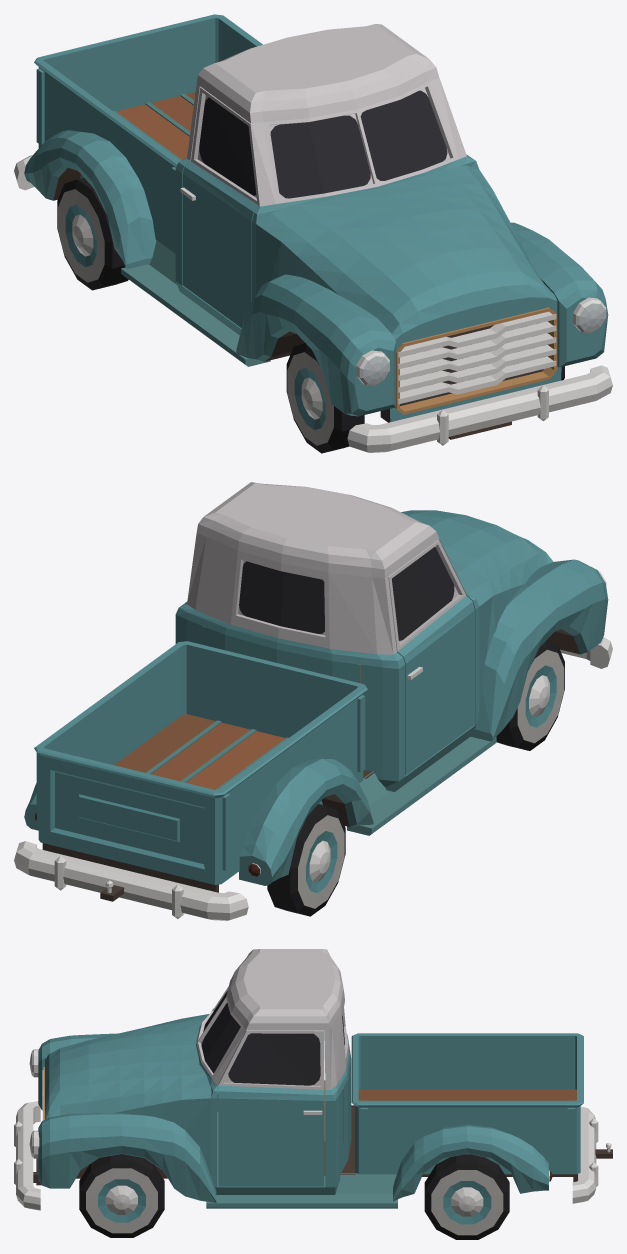
File: pickup-truck-a34bf2.glb
3 views of the same model, one above another, from view 1: azimuth 30°, elevation 25°; view 2: azimuth 150°, elevation 25°; view 3: azimuth 270°, elevation 25° (orthographic). The views are drawn at different scales.
Visible parts, largest first — view 1: pickup-truck-body, door-r-mesh, wheel-rr-mesh, wheel-fr-mesh; view 2: pickup-truck-body, door-r-mesh, wheel-rr-mesh, wheel-fr-mesh; view 3: pickup-truck-body, door-l-mesh, wheel-rl-mesh, wheel-fl-mesh.
Boxes of the visible parts, x1,y1,x2,y2 form: pickup-truck-body: (14,14,612,452); door-r-mesh: (180,87,260,327); wheel-rr-mesh: (57,178,128,290); wheel-fr-mesh: (286,343,364,453); pickup-truck-body: (14,482,612,920); door-r-mesh: (388,540,474,775); wheel-rr-mesh: (267,804,345,916); wheel-fr-mesh: (496,640,564,750); pickup-truck-body: (14,949,612,1210); door-l-mesh: (218,1030,324,1186); wheel-rl-mesh: (424,1154,509,1239); wheel-fl-mesh: (79,1154,164,1237).
Size of the model in its own units: 1.9 by 1.93 by 4.83.
